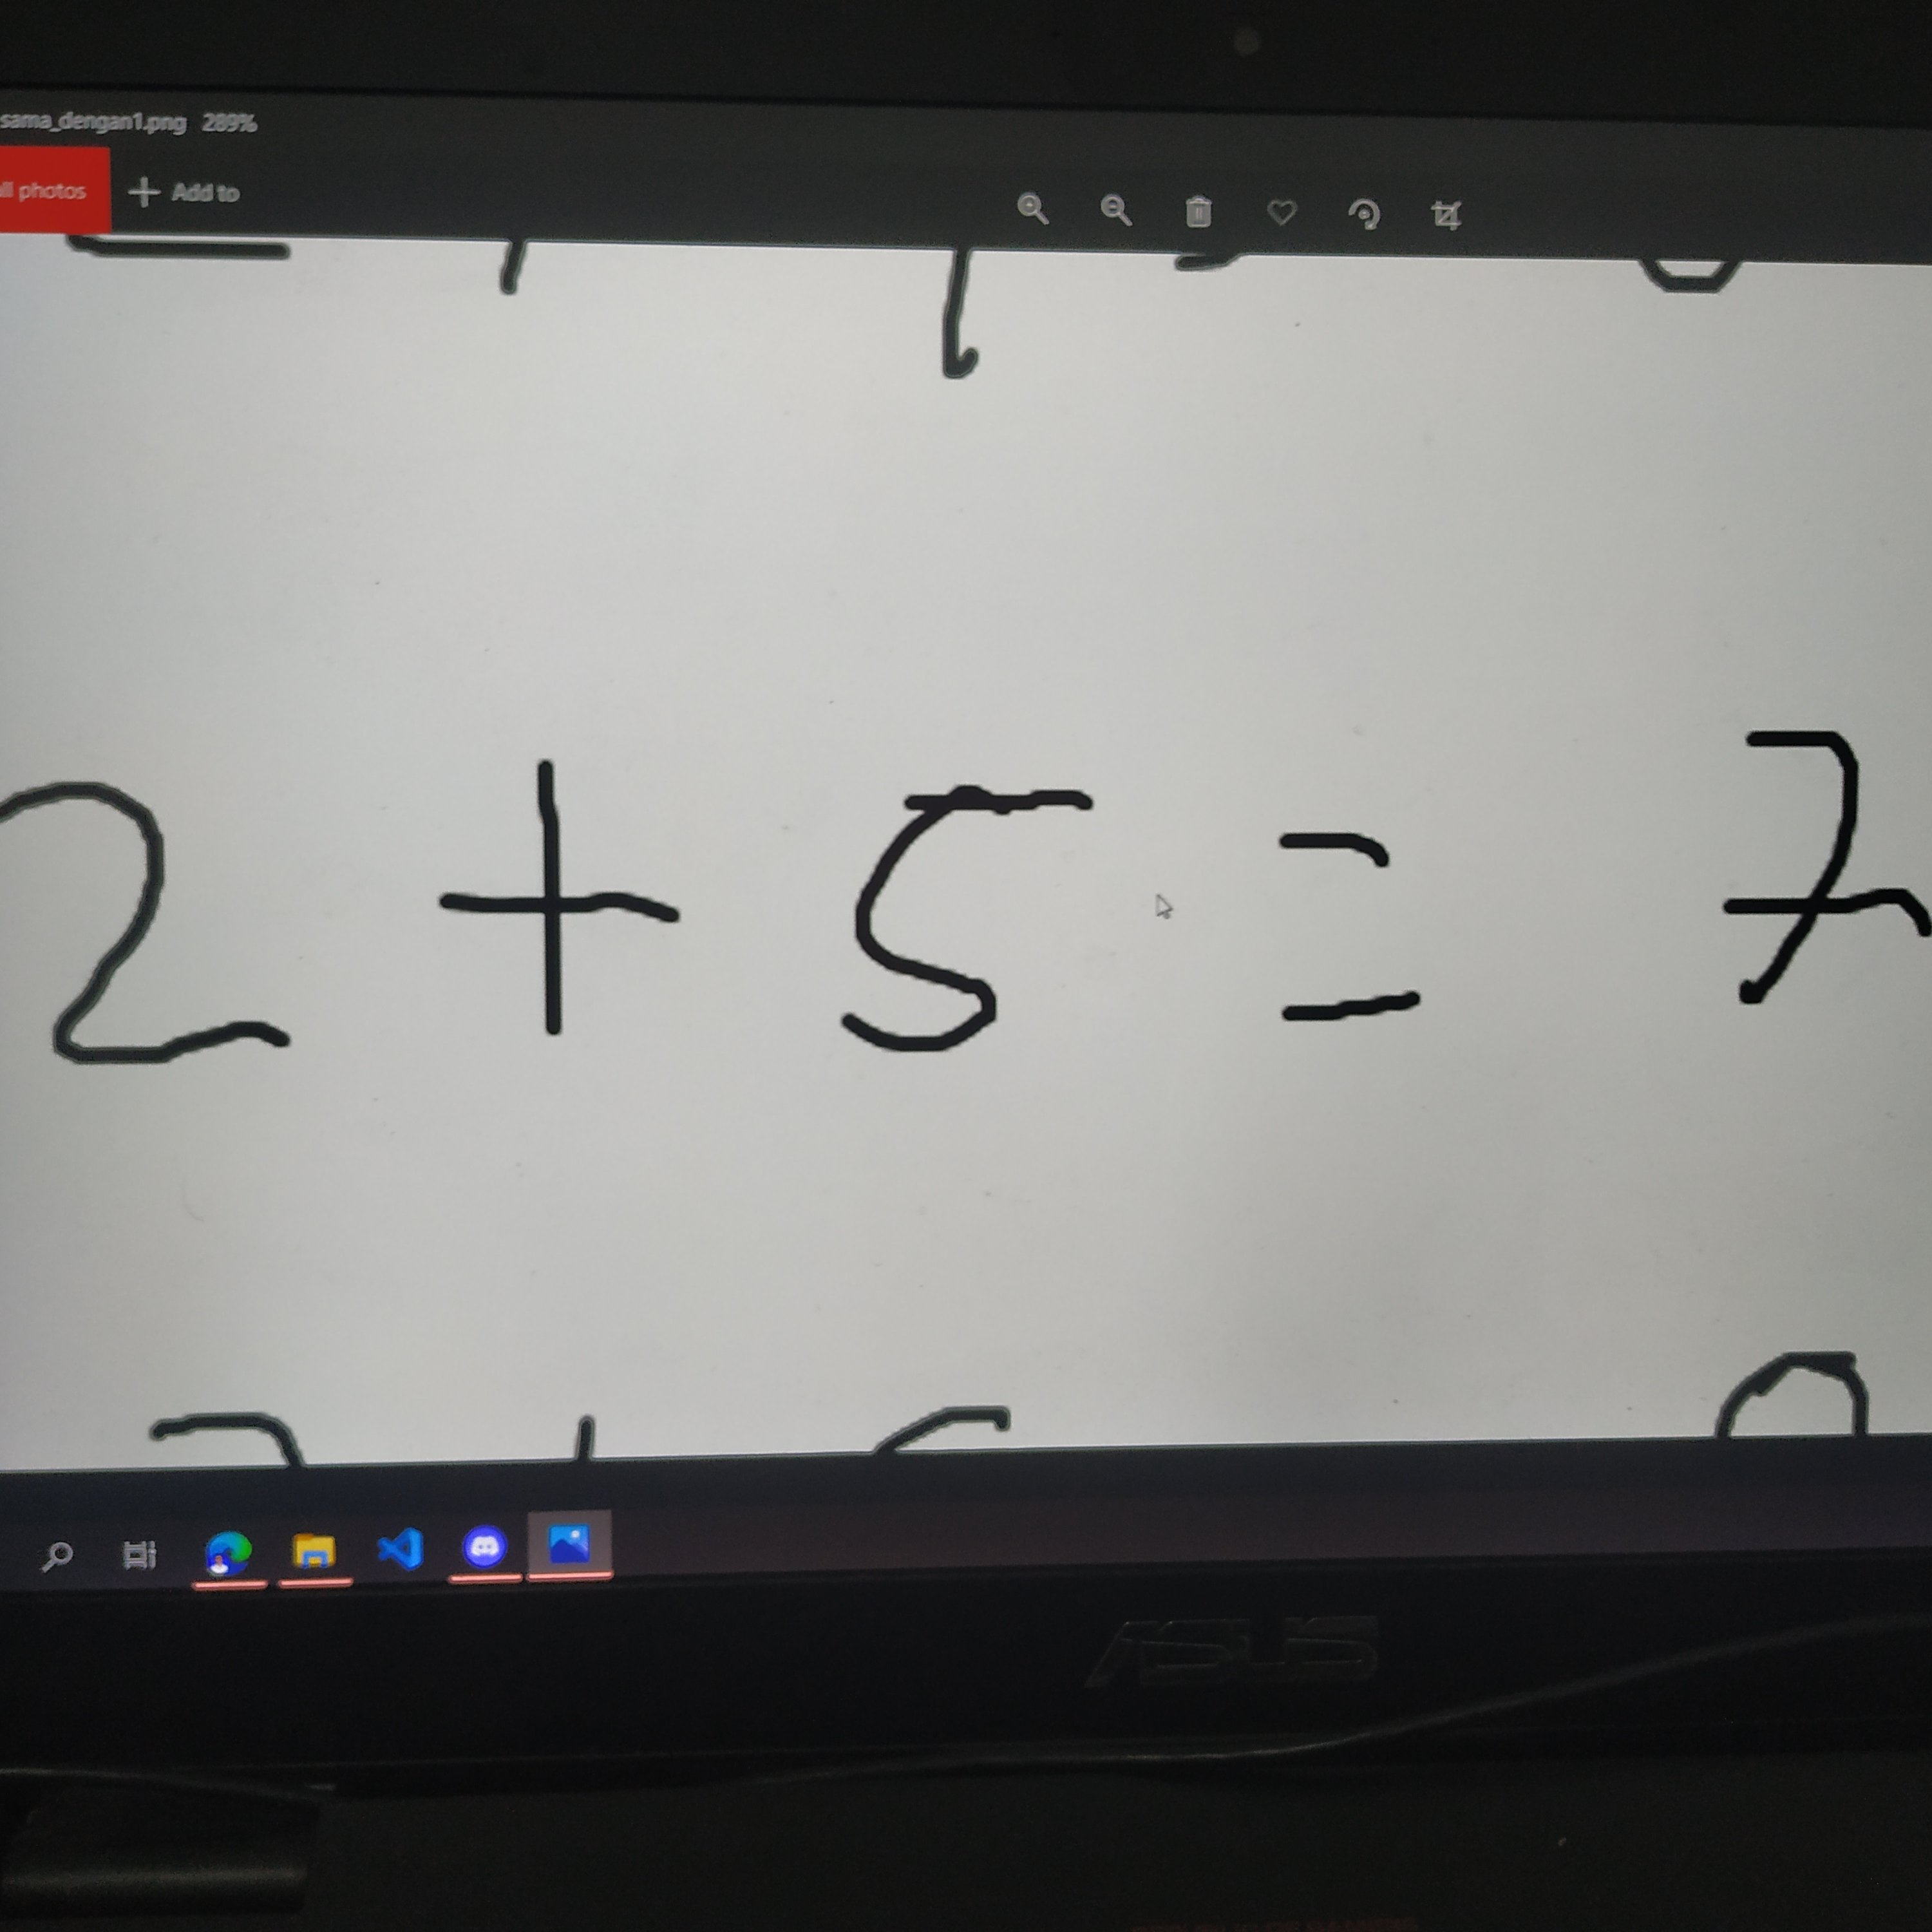equal: (1233, 810, 1457, 1043)
num2: (3, 766, 343, 1092)
num5: (811, 775, 1124, 1074)
num7: (1667, 702, 1932, 1038)
sum: (426, 750, 705, 1045)
